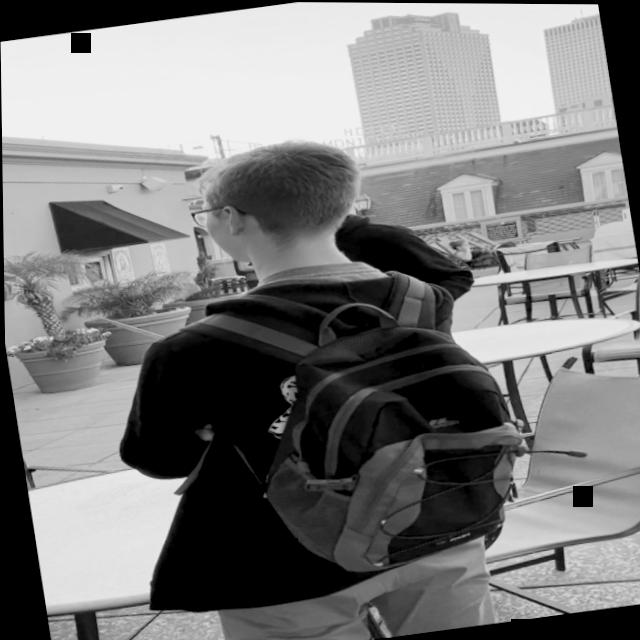NO-Mask: (194, 192, 243, 266)
